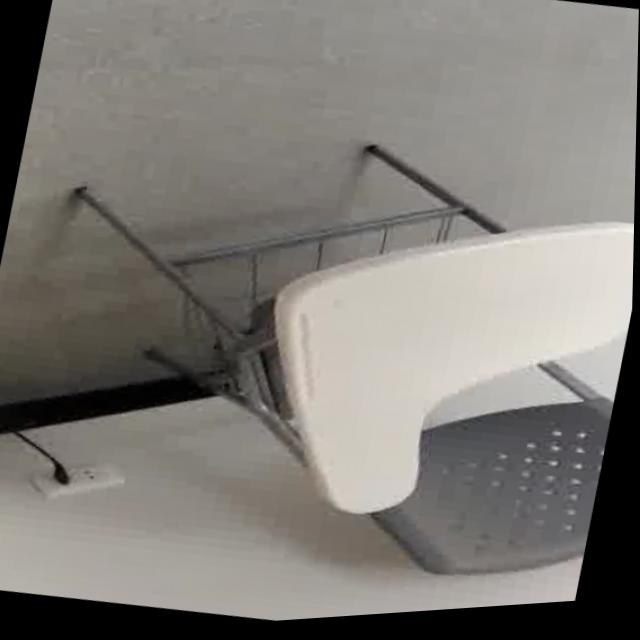chair: (0, 73, 638, 640)
